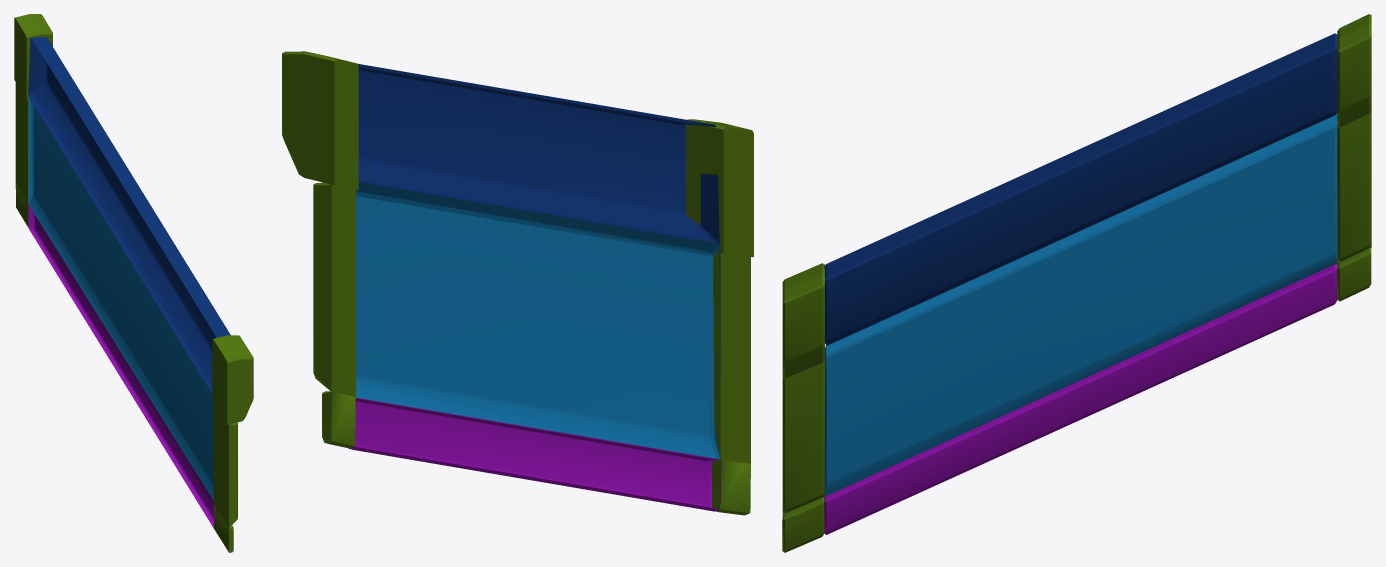
The model's file is Module_Ss_wall_UP_1.FBX.
3 views of the same model, side by side, from view 1: azimuth 30°, elevation 25°; view 2: azimuth 150°, elevation 25°; view 3: azimuth 270°, elevation 25° (orthographic). The views are drawn at different scales.
Parts seen in each view (by area): view 1: Module_Ss_wall_UP_00, Module_Ss_wall_UP_03, Module_Ss_wall_UP_02, Module_Ss_wall_UP_01, Module_Ss_wall_UP_04; view 2: Module_Ss_wall_UP_00, Module_Ss_wall_UP_03, Module_Ss_wall_UP_04, Module_Ss_wall_UP_01, Module_Ss_wall_UP_02; view 3: Module_Ss_wall_UP_00, Module_Ss_wall_UP_03, Module_Ss_wall_UP_01, Module_Ss_wall_UP_02, Module_Ss_wall_UP_04.
Part boxes in pixels (<box>): Module_Ss_wall_UP_00: <box>28,96,213,500</box>; Module_Ss_wall_UP_03: <box>28,37,230,393</box>; Module_Ss_wall_UP_02: <box>212,335,253,552</box>; Module_Ss_wall_UP_01: <box>28,204,214,528</box>; Module_Ss_wall_UP_04: <box>14,14,52,227</box>; Module_Ss_wall_UP_00: <box>356,182,720,459</box>; Module_Ss_wall_UP_03: <box>357,63,719,243</box>; Module_Ss_wall_UP_04: <box>282,51,358,448</box>; Module_Ss_wall_UP_01: <box>348,397,721,511</box>; Module_Ss_wall_UP_02: <box>686,119,753,515</box>; Module_Ss_wall_UP_00: <box>825,113,1337,495</box>; Module_Ss_wall_UP_03: <box>824,33,1337,345</box>; Module_Ss_wall_UP_01: <box>824,263,1337,534</box>; Module_Ss_wall_UP_02: <box>782,263,824,552</box>; Module_Ss_wall_UP_04: <box>1337,14,1371,301</box>.
Bounding box in the file's own units: 12.49 × 158 × 158.
